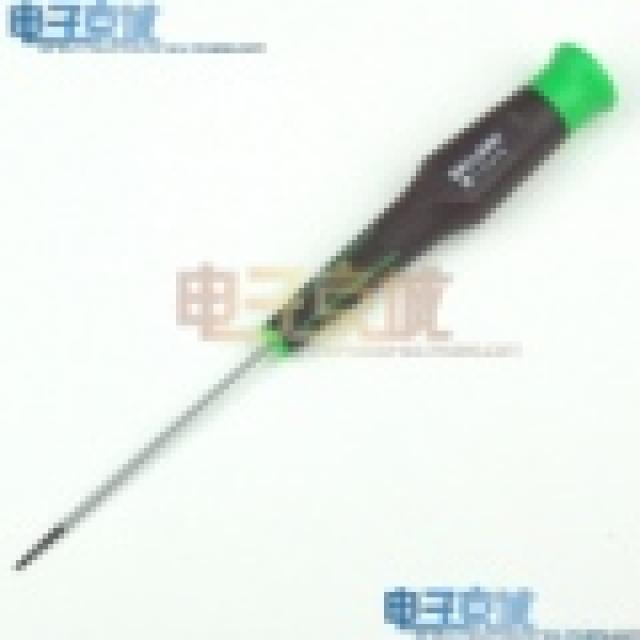screwdriver: (9, 41, 622, 581)
